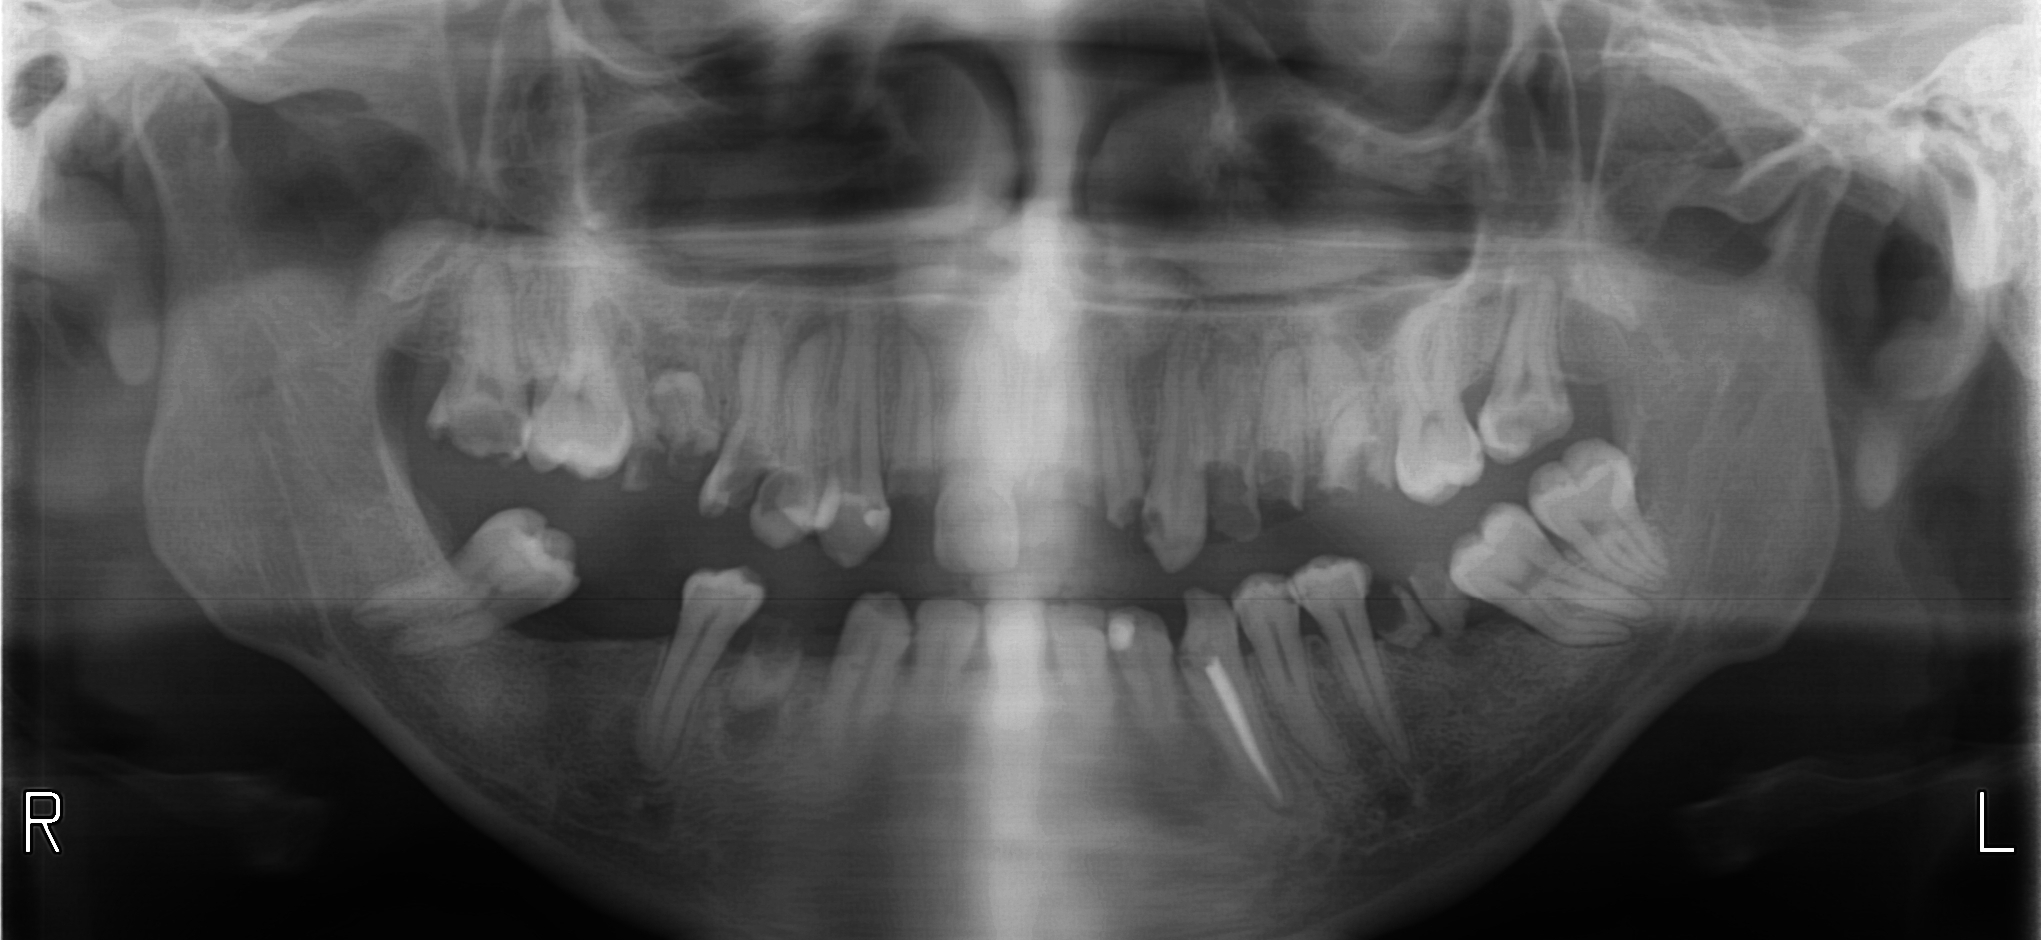cavity: (456, 406, 515, 449), (760, 463, 810, 509), (532, 378, 558, 405), (475, 371, 500, 397), (1147, 510, 1165, 542), (1185, 654, 1190, 664)
